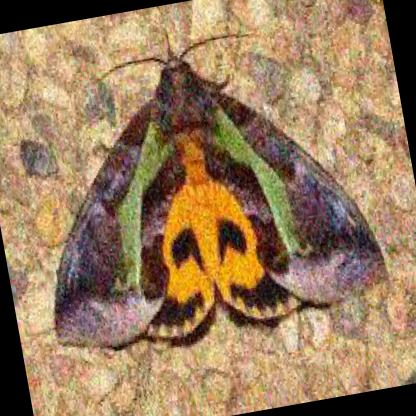fruit sucking moth: (54, 35, 390, 345)
